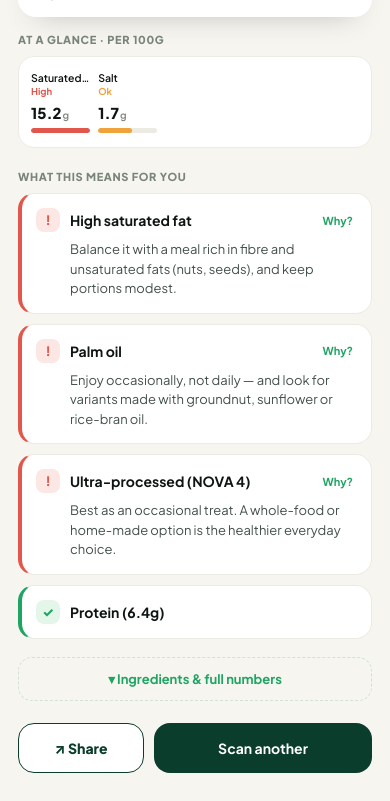
it: ResultScreen › toggles ingredients & full numbers
The image size is (390, 801).
(page scrolled)
What coordinates should you click on to do the following:
click the button "▾ Ingredients & full numbers"
I would click on:
 (195, 678)
Its box is [18, 656, 372, 700].
(page scrolled)
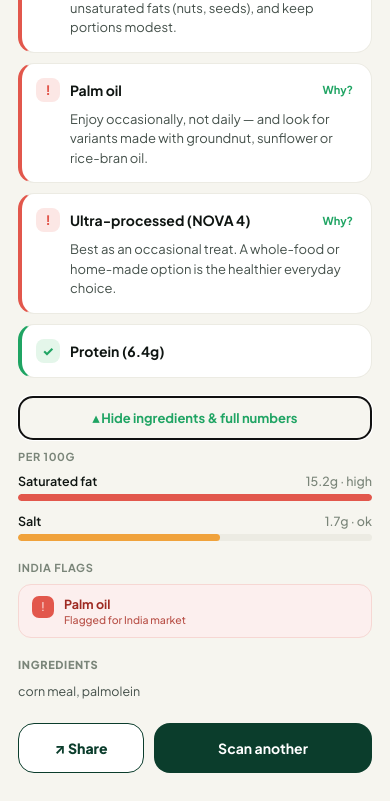
Check: the text "Per 100g" is shown, box [18, 450, 75, 462]
Check: the text "corn meal, palmolein" is shown, box [18, 682, 140, 698]
